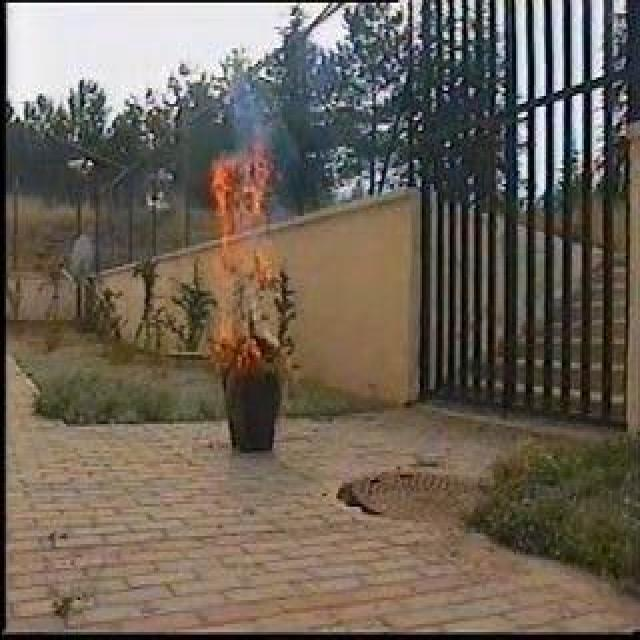fire: (210, 151, 280, 372)
